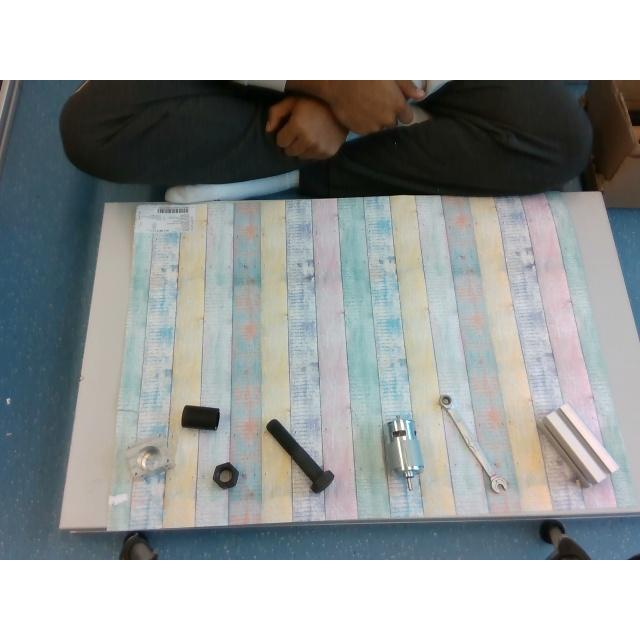M20: (214, 462, 238, 488)
M20_100: (266, 420, 334, 492)
Motor2: (384, 416, 424, 492)
S40_40_G: (540, 404, 618, 484)
Wrench: (439, 394, 508, 494)
